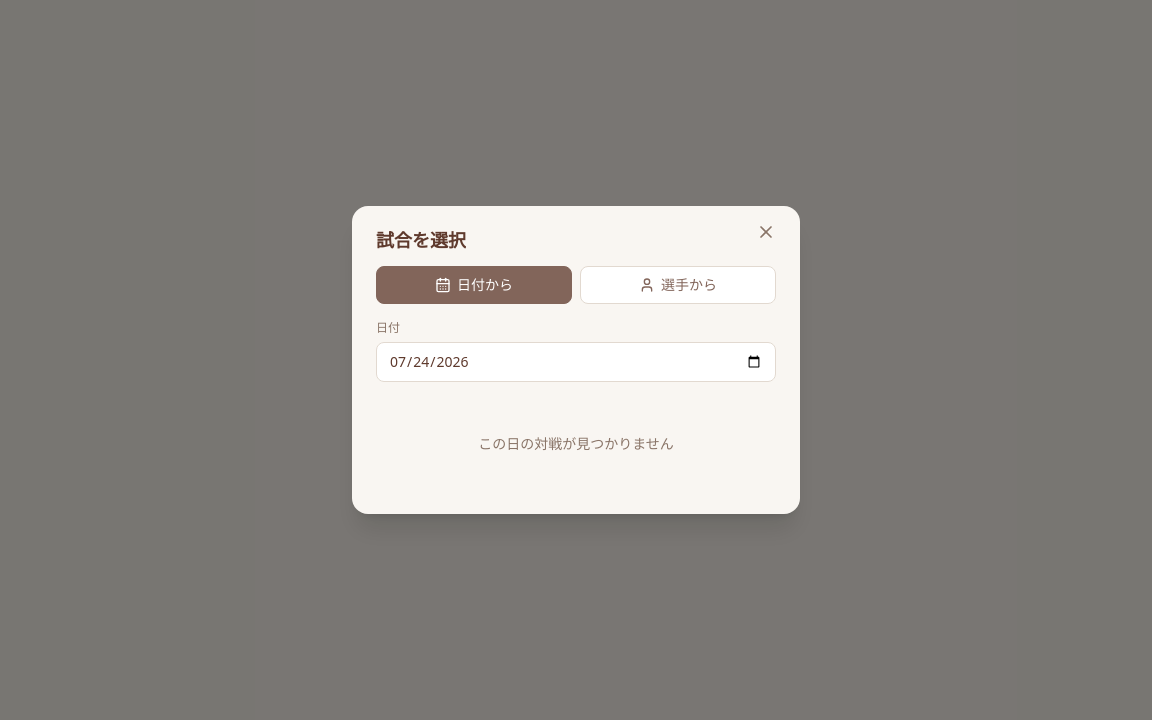
Test: VideoRegisterModal - 選手起点（PlayerSourceSelect） › 登録済み動画に一致する組み合わせは「登録済み」表示＋選択不可になる
Click the button "選手から" at (678, 285), box [580,266,776,304]
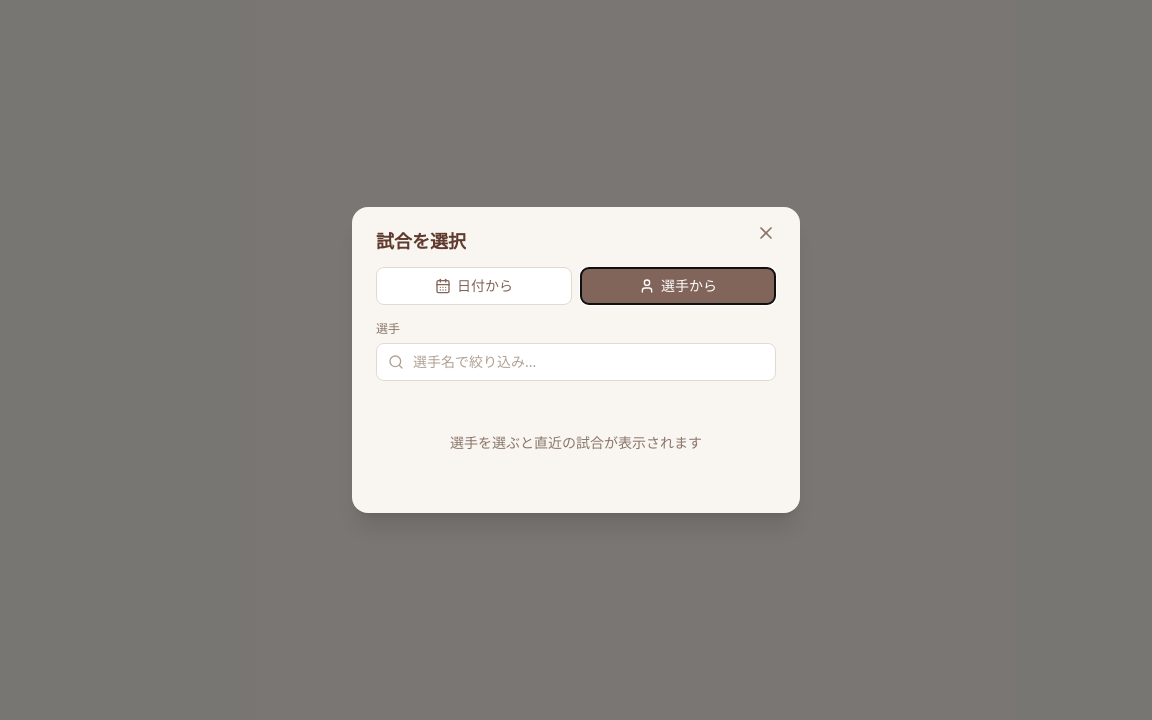
Type "山田" into the field with placeholder "選手名で絞り込み..." at (576, 362), box [376,343,776,381]
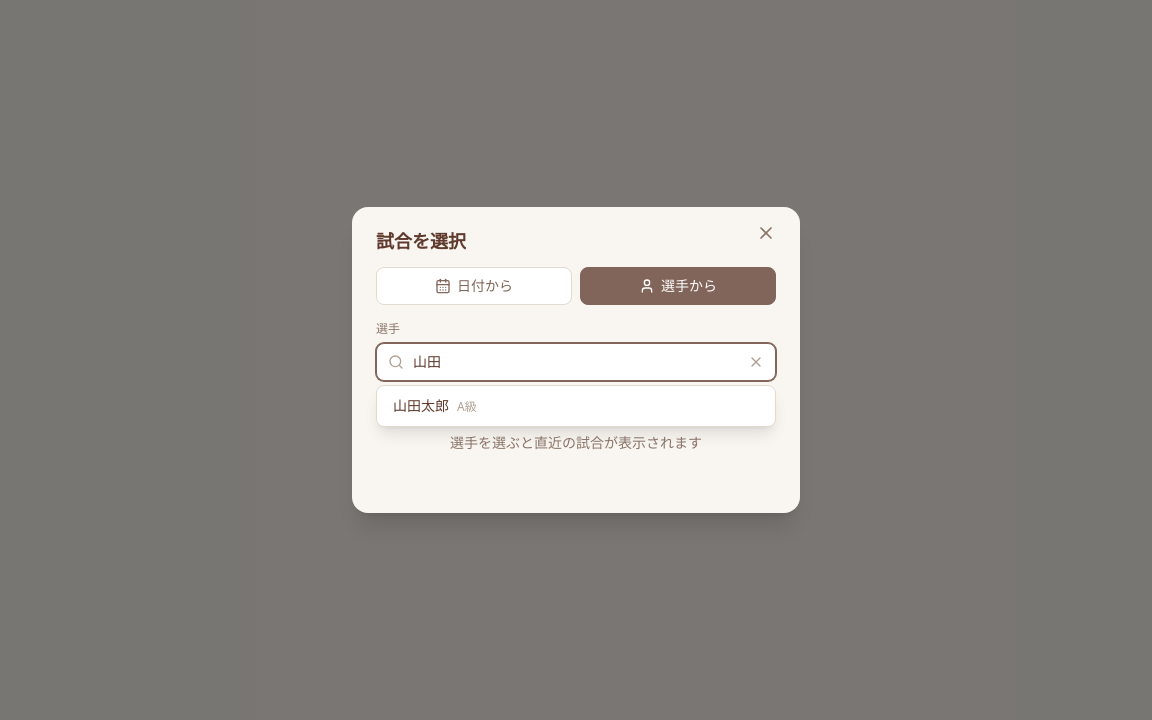
Click the button "山田太郎" at (421, 406), box [377,386,775,426]
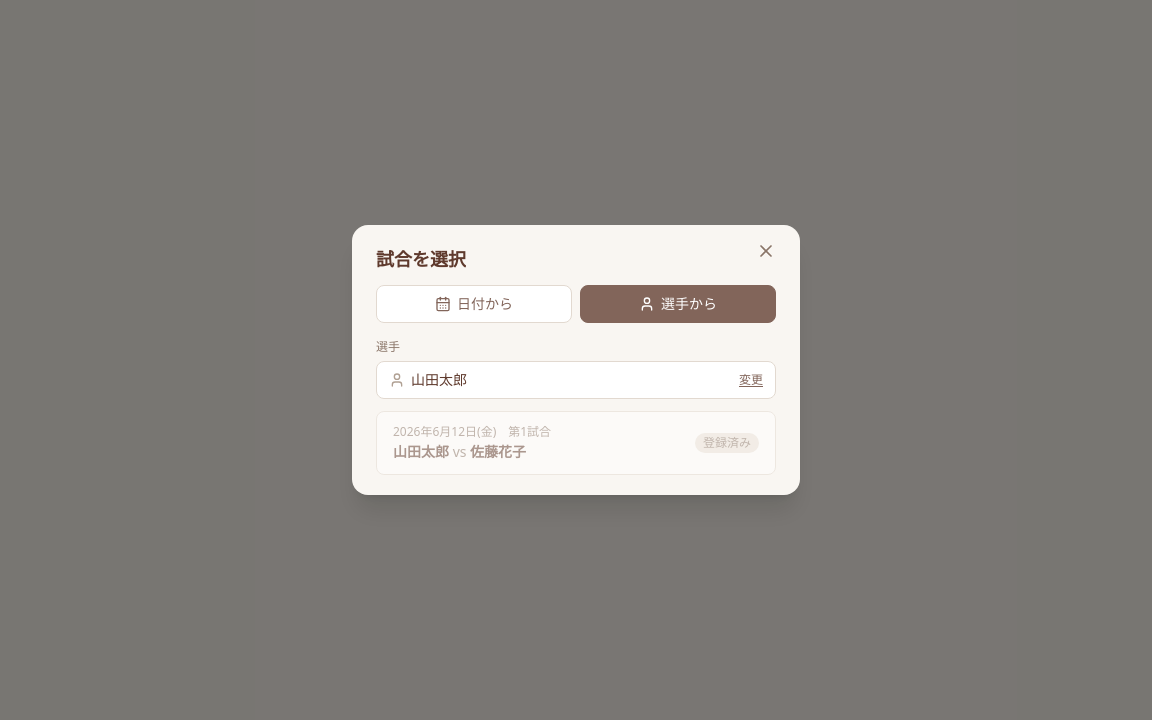
expect the text "登録済み" is shown: met, box [695,433,759,453]
